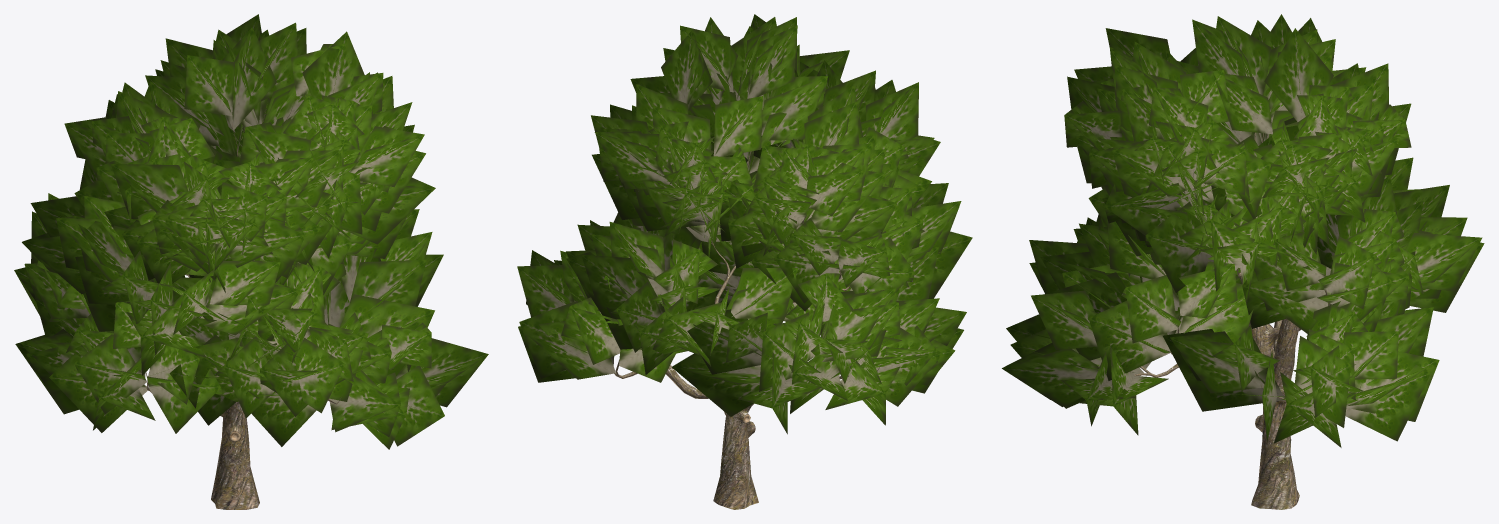
File: Tree4_LOD1.fbx
The picture shows the model from 3 angles, left to right: view 1: azimuth 30°, elevation 25°; view 2: azimuth 150°, elevation 25°; view 3: azimuth 270°, elevation 25°; orthographic projection. The views are drawn at different scales.
Parts seen in each view (by area): view 1: oak leaf_2, mossybark02_0; view 2: oak leaf_2, mossybark02_0; view 3: oak leaf_2, mossybark02_0.
Part boxes in pixels (<box>): oak leaf_2: <box>14,14,488,449</box>; mossybark02_0: <box>145,102,400,509</box>; oak leaf_2: <box>517,14,972,434</box>; mossybark02_0: <box>614,90,880,509</box>; oak leaf_2: <box>1002,14,1484,447</box>; mossybark02_0: <box>1098,132,1360,509</box>.
Bounding box in the file's own units: 1385 × 1483 × 1374.
Materials: 3 (3 with a texture image).
